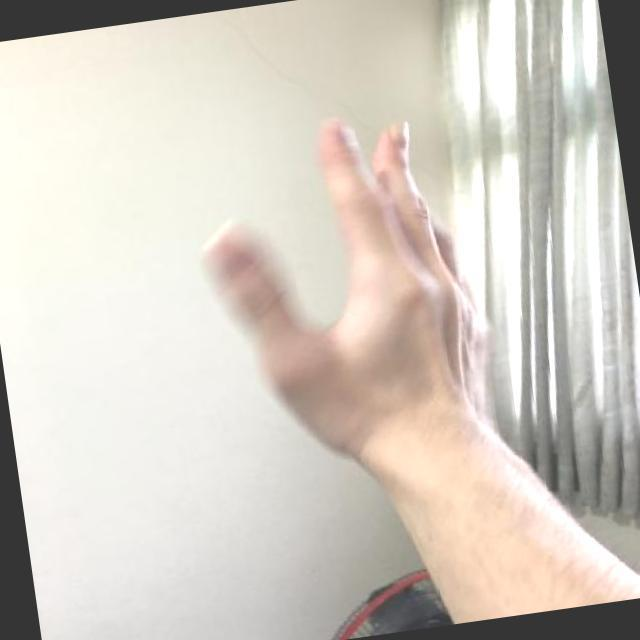hand: (162, 84, 540, 508)
